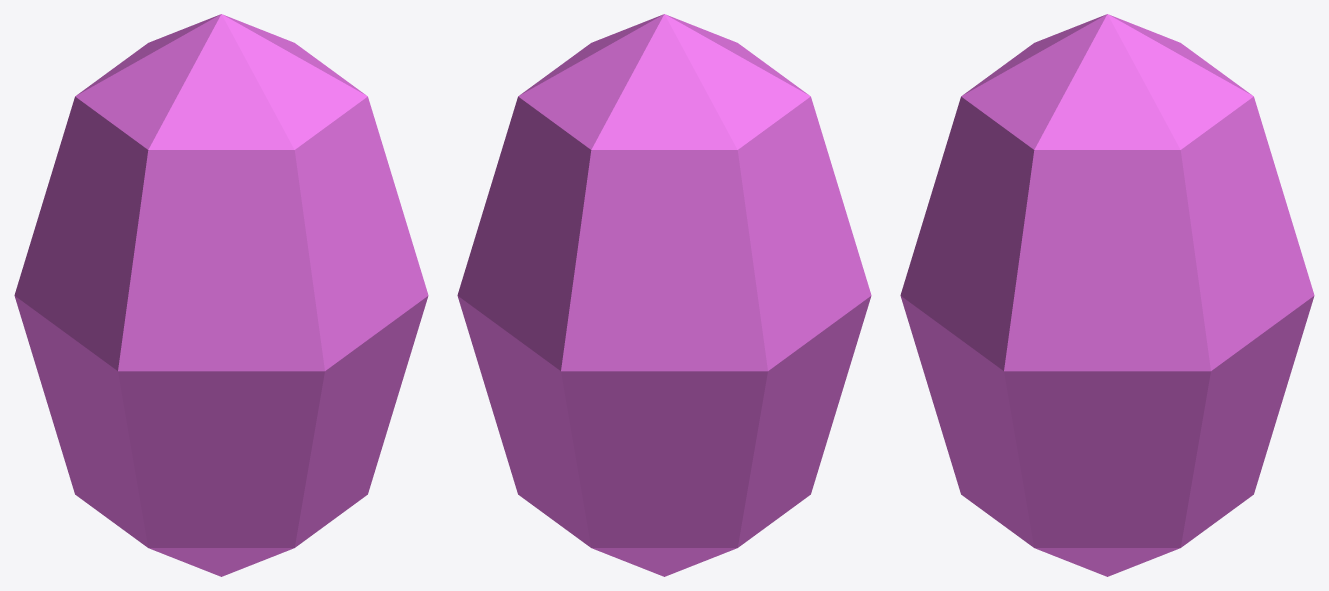
File: Gem_Purple.fbx
3 renders of one model, left to right at view 1: azimuth 30°, elevation 25°; view 2: azimuth 150°, elevation 25°; view 3: azimuth 270°, elevation 25°, orthographic.
Visible parts, largest first — view 1: Gem_Purple; view 2: Gem_Purple; view 3: Gem_Purple.
Boxes of the visible parts, x1,y1,x2,y2 form: Gem_Purple: (14, 14, 428, 576); Gem_Purple: (457, 14, 871, 576); Gem_Purple: (900, 14, 1314, 576).
Bounding box in the file's own units: 0.2078 × 0.36 × 0.24.
